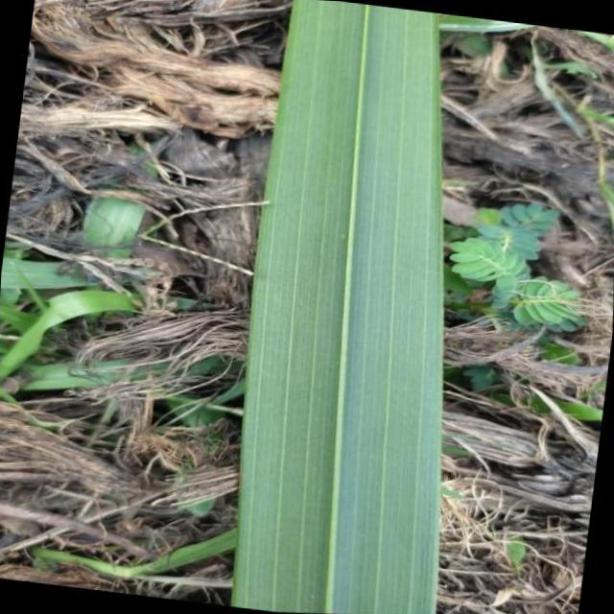Healthy: (231, 0, 442, 614)
